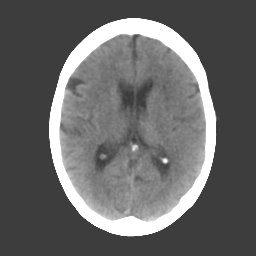ischemic: (153, 87, 188, 126)
